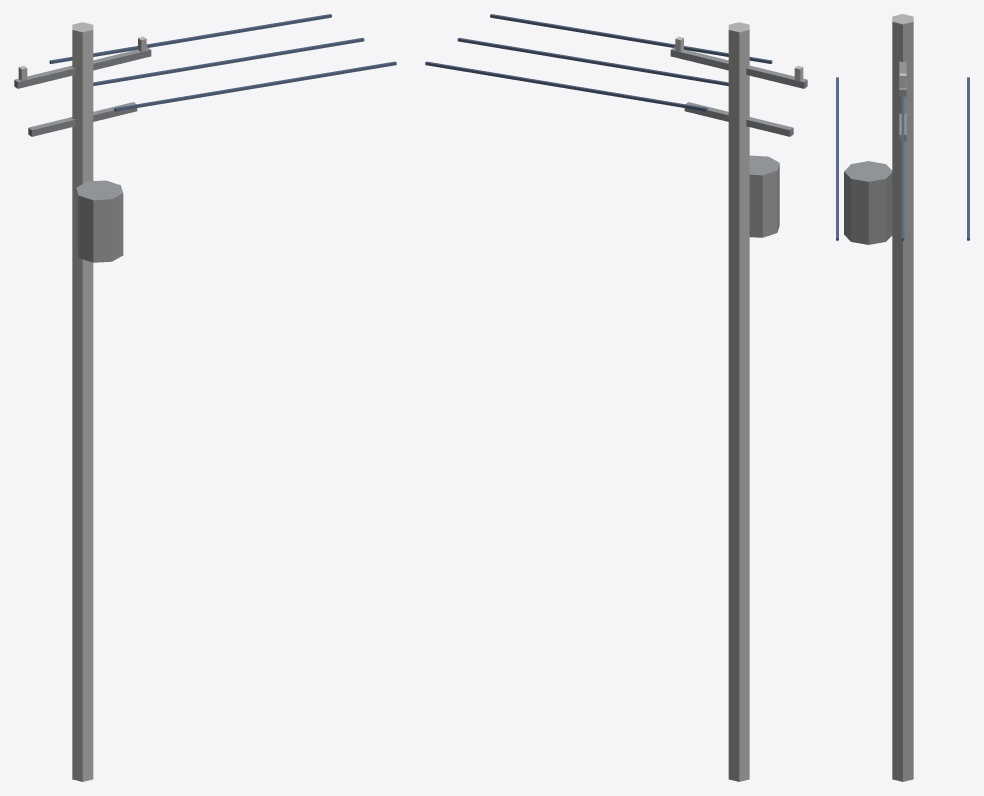
Rendered from 17_street_props-12.glb.
3 views of the same model, side by side, from view 1: azimuth 30°, elevation 25°; view 2: azimuth 150°, elevation 25°; view 3: azimuth 270°, elevation 25° (orthographic).
Bounding box in the file's own units: 4.95 × 10.2 × 1.63.
